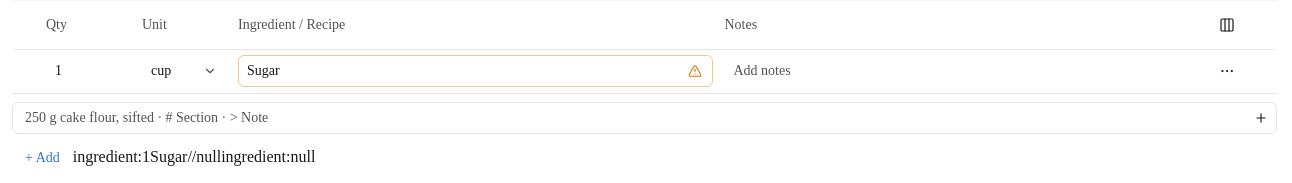
Test: recipe items table quantities › parses a typed fraction on blur
Replace the text in the field named "Quantity" with "1 1/2" at [88, 71], box [46,55,130,87]
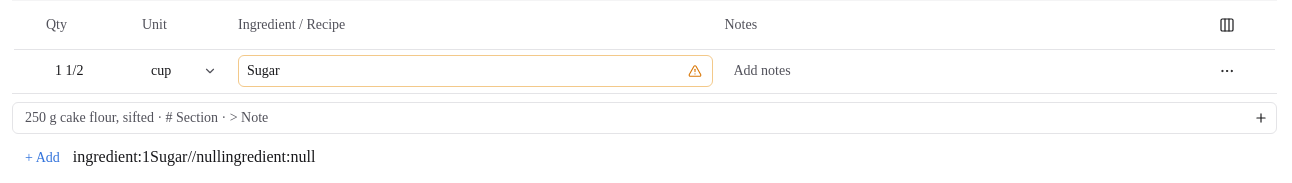
Leave the field named "Quantity", box [46,55,130,87]
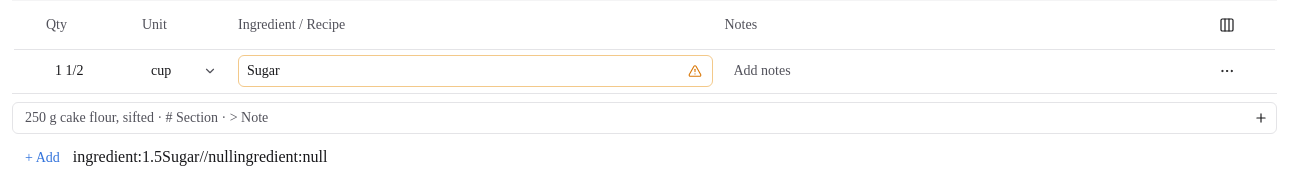
Expected: the text with test id "order" reads "ingredient:1.5", [73,148,162,165]
